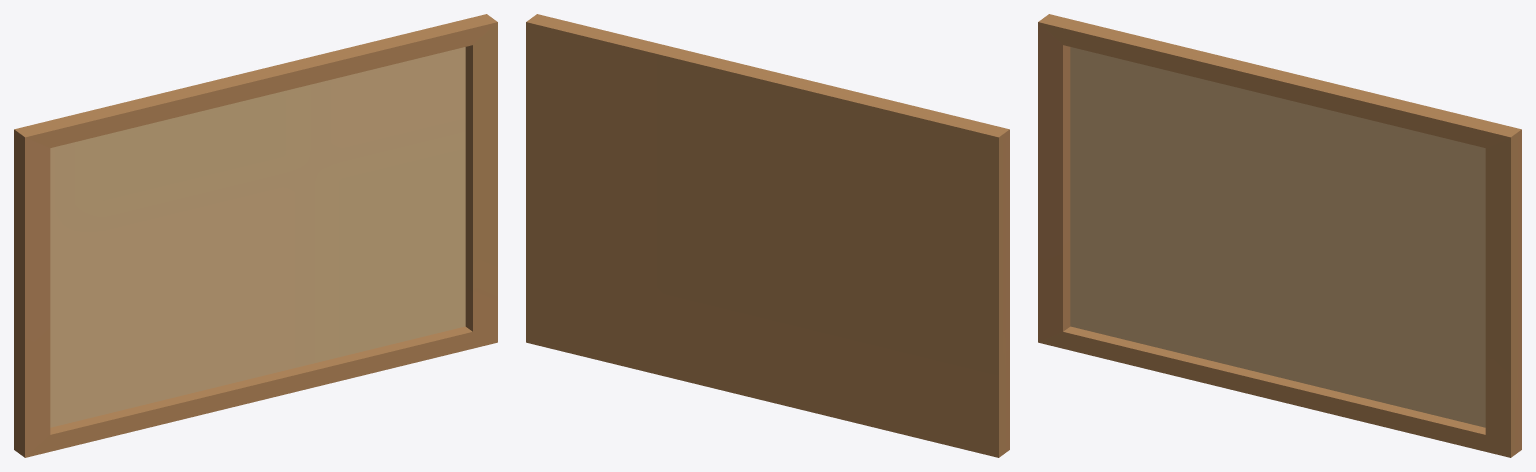
The model's file is cork-noticeboard--2.gltf.
3 views of the same model, side by side, from view 1: azimuth 30°, elevation 25°; view 2: azimuth 150°, elevation 25°; view 3: azimuth 330°, elevation 25° (orthographic).
Visible parts, largest first — view 1: WoodBoard; view 2: WoodBoard; view 3: WoodBoard.
Part boxes in pixels (bbox=[...]): WoodBoard: bbox=[14, 14, 497, 457]; WoodBoard: bbox=[526, 14, 1009, 457]; WoodBoard: bbox=[1038, 14, 1521, 457].
Bounding box in the file's own units: 1.49 × 0.9685 × 0.0604.
1 material, 1 textured.
